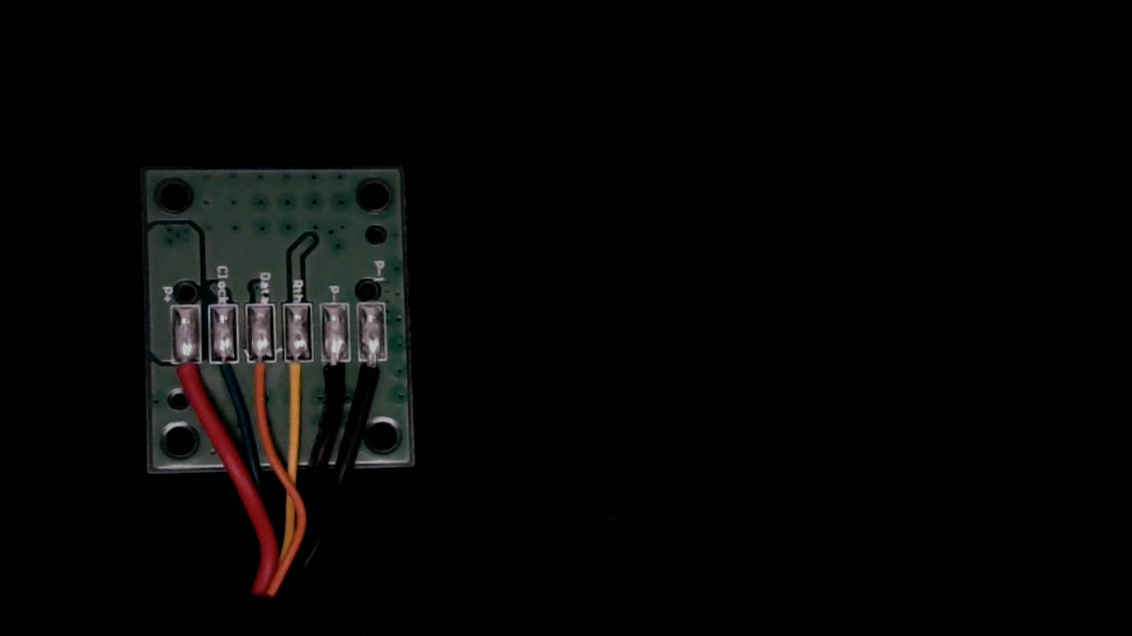Black: (322, 350, 351, 403)
Black1: (359, 348, 388, 403)
Green: (208, 350, 240, 401)
Orange: (248, 350, 275, 404)
Red: (170, 350, 202, 406)
Yellow: (283, 350, 314, 407)
